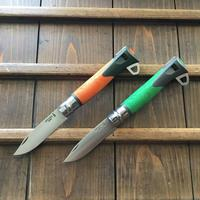knife: (10, 45, 187, 175)
